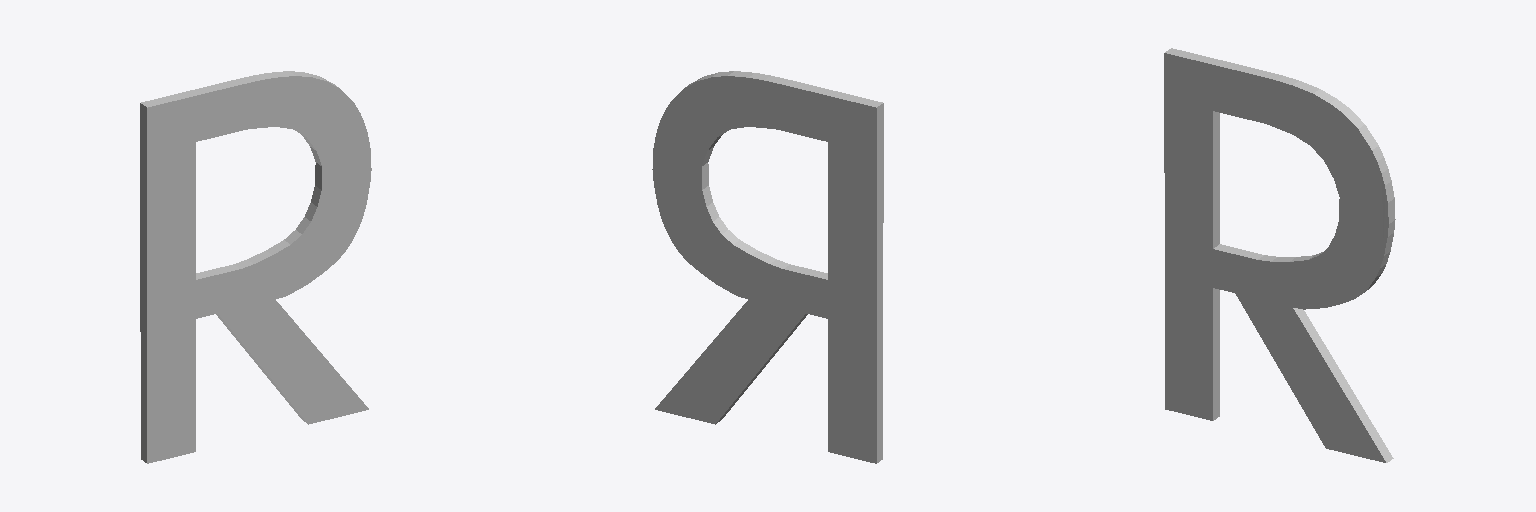
Rendered from original-15.obj.
The picture shows the model from 3 angles: view 1: azimuth 30°, elevation 25°; view 2: azimuth 150°, elevation 25°; view 3: azimuth 330°, elevation 25°; orthographic projection.
Bounding box in the file's own units: 0.0181 × 0.0274 × 0.0009.